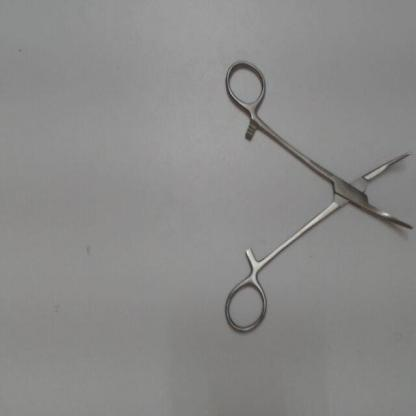Crile Artery Forceps: (220, 54, 415, 340)
